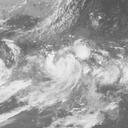cyclone: (47, 49, 82, 82)
